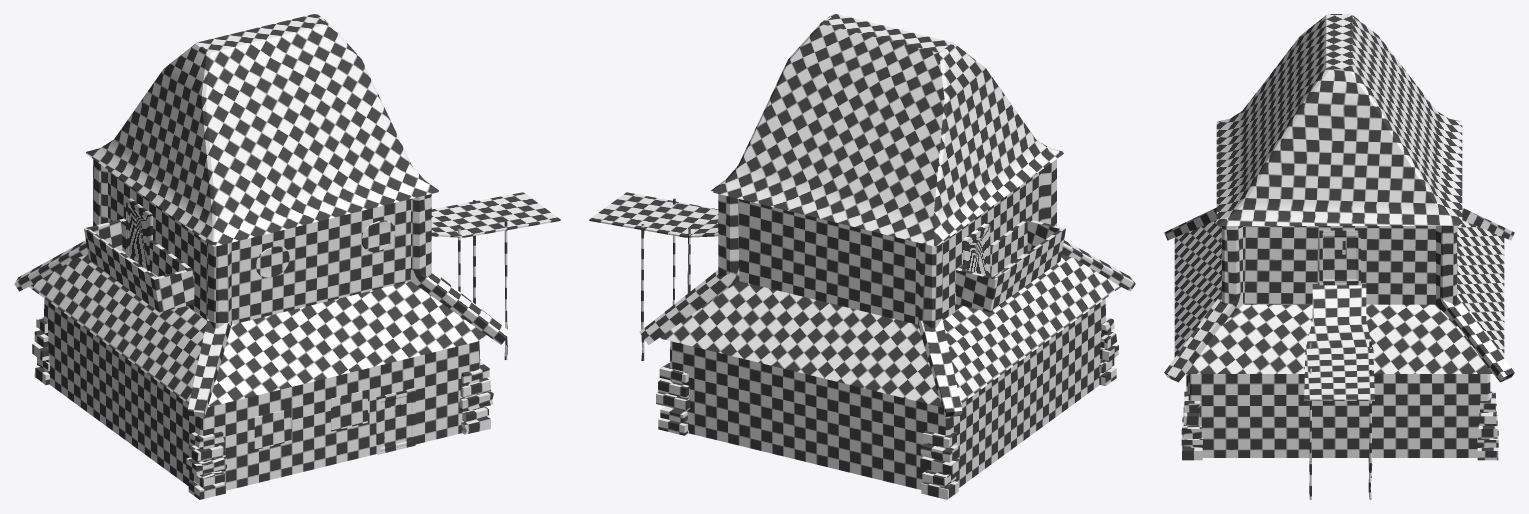
Rendered from House_2.fbx.
3 views of the same model, side by side, from view 1: azimuth 30°, elevation 25°; view 2: azimuth 150°, elevation 25°; view 3: azimuth 270°, elevation 25° (orthographic). The views are drawn at different scales.
Parts seen in each view (by area): view 1: House_2; view 2: House_2; view 3: House_2.
Part boxes in pixels (x1,y1,x2,y2): House_2: [14, 14, 560, 499]; House_2: [589, 14, 1135, 499]; House_2: [1164, 14, 1514, 499].
Bounding box in the file's own units: 1194 × 959 × 867.
Materials: 1 (1 with a texture image).
